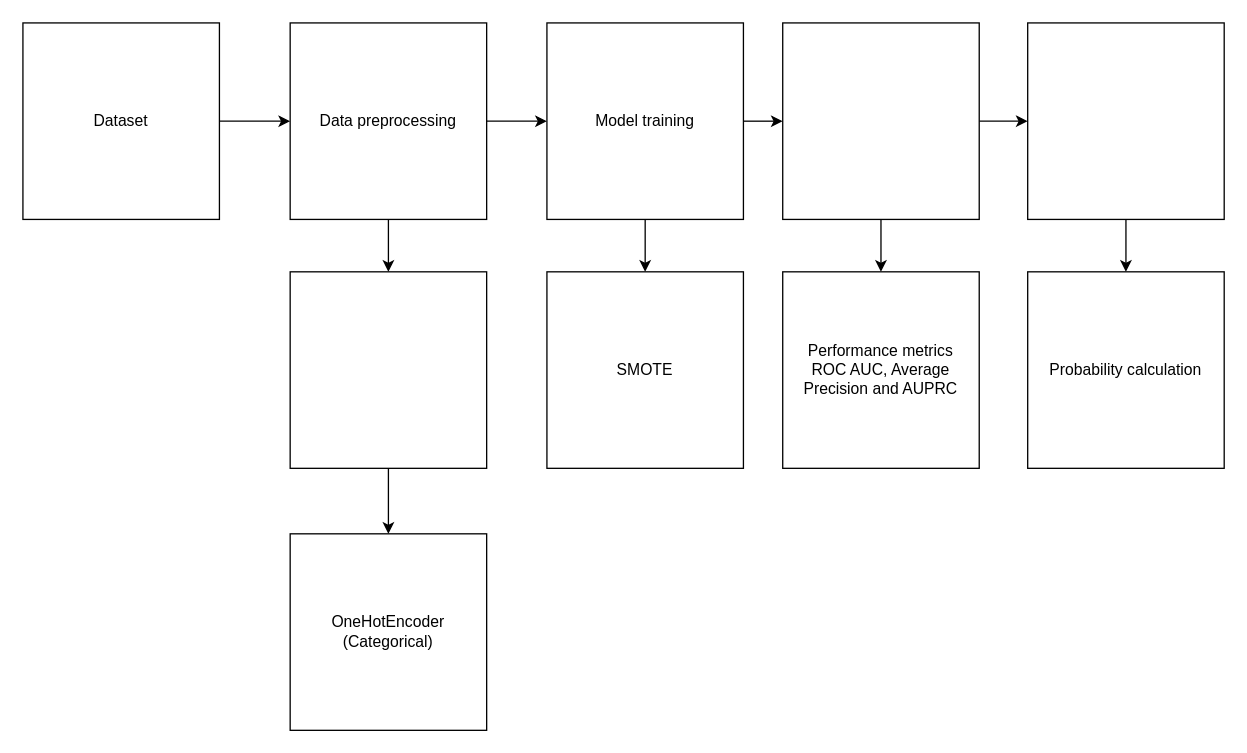
This 1247x753 diagram has some shape labels left out. The box of each missing label's shape, as (x1, y1, x2, y2) in pixels:
Model evaluation: (781, 22, 979, 219)
Prediction output: (1026, 22, 1224, 219)
StandardScaler (Numeric): (289, 271, 487, 468)
